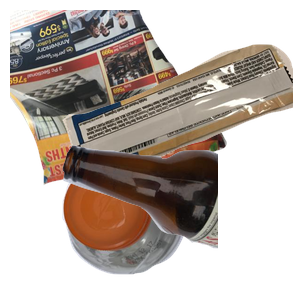glass: (60, 142, 300, 300)
paper: (10, 10, 230, 188)
plastic: (60, 152, 237, 300)
trash: (60, 42, 300, 219)
